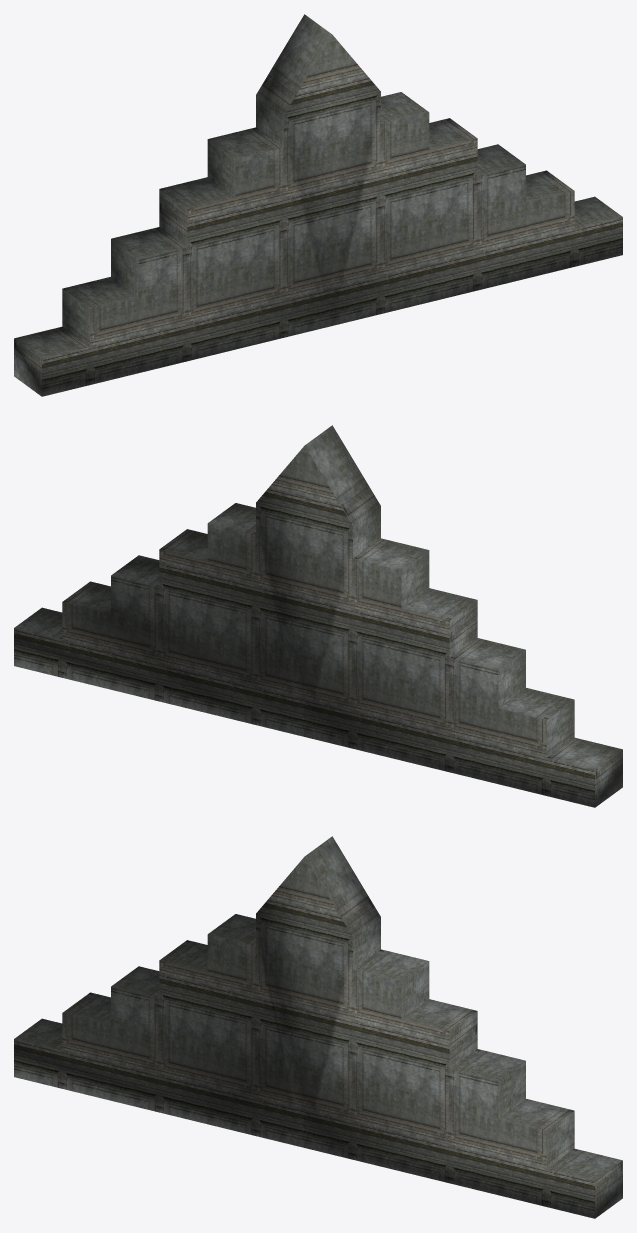
File: RoofDeco.dae
3 views of the same model, one above another, from view 1: azimuth 30°, elevation 25°; view 2: azimuth 150°, elevation 25°; view 3: azimuth 330°, elevation 25° (orthographic).
Visible parts, largest first — view 1: TTR_SMRoofDeco; view 2: TTR_SMRoofDeco; view 3: TTR_SMRoofDeco.
Boxes of the visible parts, box(x1,y1,x2,y2) form: TTR_SMRoofDeco: box(14, 14, 622, 396); TTR_SMRoofDeco: box(14, 425, 622, 807); TTR_SMRoofDeco: box(14, 836, 622, 1218).
Size of the model in its own units: 11.52 by 0.96 by 5.52.
Materials: 1 (1 with a texture image).
